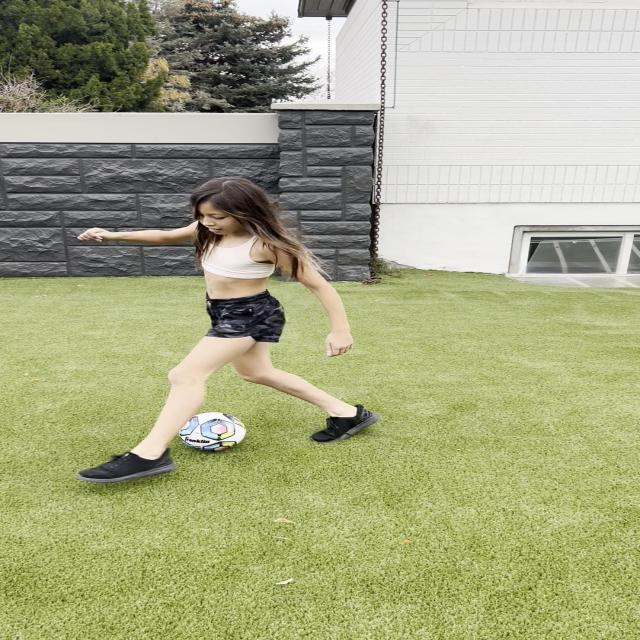Soccer Ball: (178, 412, 246, 451)
